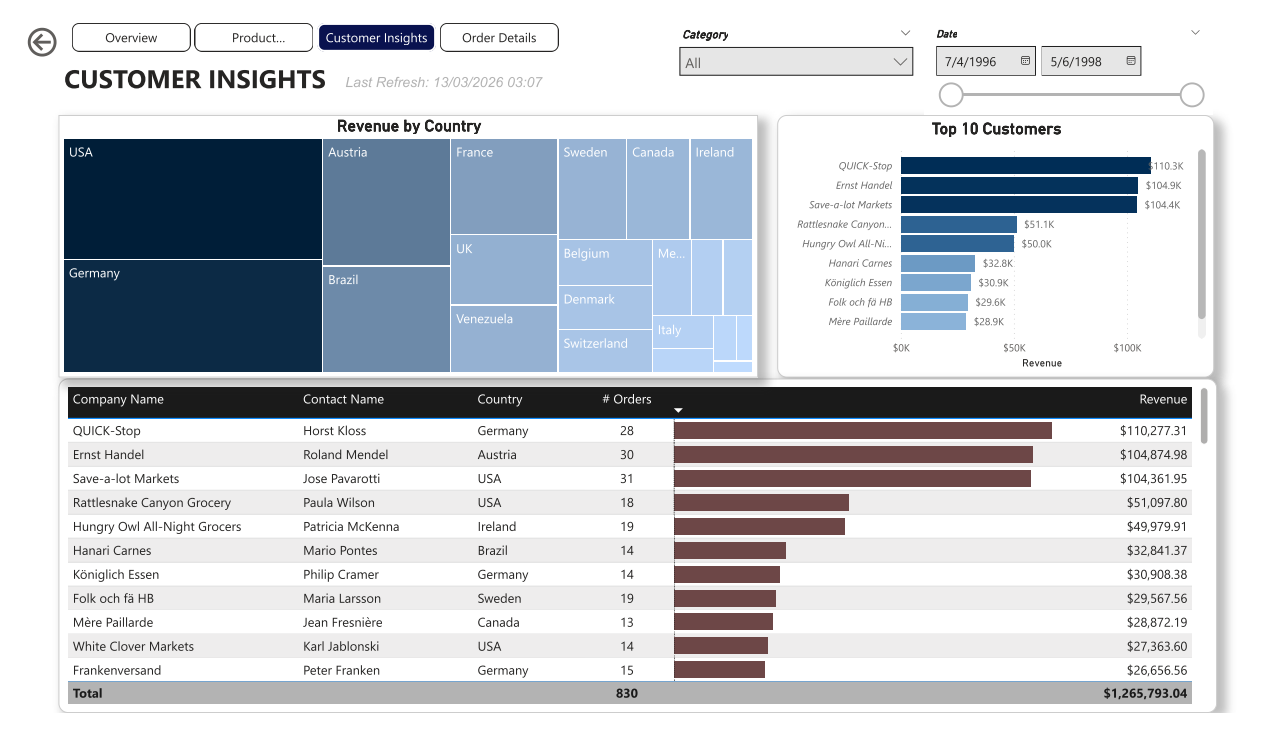

The page's visual inventory and layout, read from the dashboard file:
{"tool":"powerbi","page":{"name":"Customer Insights","canvas":[1280,720],"ordinal":2},"visuals":[{"type":"textbox","box":[37.7,34.4,326.2,45.9],"z":0},{"type":"actionButton","box":[0,0,100,40],"z":1000},{"type":"slicer","fields":{"Values":["dim_categories.category_name"]},"box":[675.4,0,263.9,77],"z":2000,"group":"g1"},{"type":"clusteredBarChart","title":"Top 10 Customers","fields":{"Y":["all_measures.total_revenue"],"Category":["dim_customers.company_name"]},"box":[787,96.3,455.6,274.1],"z":2000},{"type":"slicer","fields":{"Values":["dim_date.Date"]},"box":[940,0,301.9,96.3],"z":3000,"group":"g1"},{"type":"card","fields":{"Values":["all_measures.Last Refresh Text"]},"box":[329.5,47.5,218,31.1],"z":3000},{"type":"tableEx","title":"Revenue Concentration (Pareto 80/20)","fields":{"Values":["dim_customers.company_name","dim_customers.contact_name","dim_customers.country","all_measures.total_orders","all_measures.total_revenue"]},"box":[37.3,371.2,1208.5,349.2],"z":4000},{"type":"treemap","title":"Revenue by Country","fields":{"Group":["dim_customers.country"],"Values":["all_measures.total_revenue"]},"box":[37,96.3,729.6,274.1],"z":5000},{"type":"pageNavigator","box":[50.8,0,508.2,29.5],"z":6000},{"type":"group","id":"g1","title":"Group 1","box":[675.4,0,567.2,96.7],"z":7000}]}

Visuals, with their boxes in screenshot pixels (x1, y1, x2, y2), scaled from the page's 1280x720 canvas onto the 1272x736 screenshot:
textbox: bbox(37, 35, 362, 82)
actionButton: bbox(0, 0, 99, 41)
slicer - dim_categories.category_name: bbox(671, 0, 933, 79)
"Top 10 Customers" clusteredBarChart: bbox(782, 98, 1235, 379)
slicer - dim_date.Date: bbox(934, 0, 1234, 98)
card - all_measures.Last Refresh Text: bbox(327, 49, 544, 80)
"Revenue Concentration (Pareto 80/20)" tableEx: bbox(37, 379, 1238, 735)
"Revenue by Country" treemap: bbox(37, 98, 762, 379)
pageNavigator: bbox(50, 0, 556, 30)
"Group 1" group: bbox(671, 0, 1235, 99)
